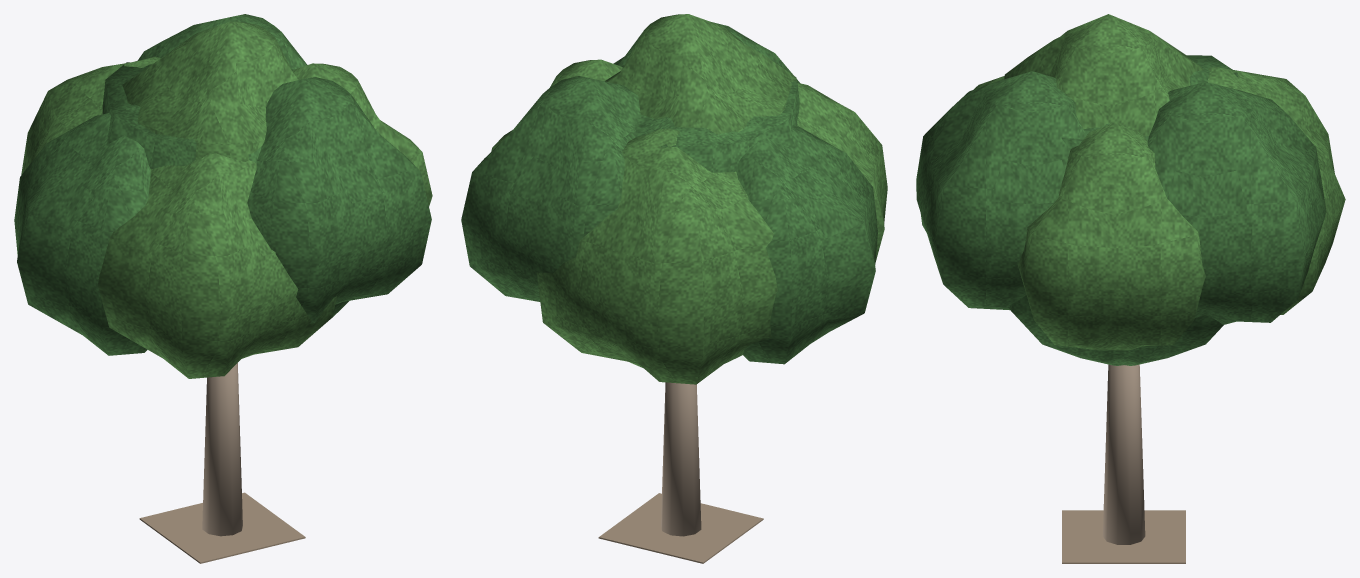
Rendered from barrio.arbol.fbx.
3 views of the same model, side by side, from view 1: azimuth 30°, elevation 25°; view 2: azimuth 150°, elevation 25°; view 3: azimuth 270°, elevation 25° (orthographic). The views are drawn at different scales.
Parts seen in each view (by area): view 1: Copa.001, Copa.002, Copa.006, Copa.007, Tronco, Taza del arbol, Copa.005, Copa, Copa.003, Copa.004; view 2: Copa.005, Copa.004, Copa.006, Copa.007, Tronco, Taza del arbol, Copa, Copa.001, Copa.003, Copa.002; view 3: Copa.003, Copa.004, Copa.002, Copa.007, Tronco, Copa.005, Taza del arbol, Copa.
Part boxes in pixels (x1,y1,x2,y2): Copa.001: [98, 153, 336, 378]; Copa.002: [247, 77, 431, 323]; Copa.006: [14, 107, 150, 355]; Copa.007: [122, 21, 299, 162]; Tronco: [202, 363, 242, 536]; Taza del arbol: [139, 492, 305, 563]; Copa.005: [21, 56, 160, 174]; Copa: [102, 62, 349, 316]; Copa.003: [292, 63, 432, 206]; Copa.004: [137, 14, 307, 69]; Copa.005: [537, 128, 777, 384]; Copa.004: [461, 76, 640, 301]; Copa.006: [736, 117, 877, 364]; Copa.007: [605, 14, 796, 134]; Tronco: [661, 382, 701, 536]; Taza del arbol: [598, 493, 763, 563]; Copa: [613, 56, 799, 172]; Copa.001: [797, 83, 887, 262]; Copa.003: [491, 59, 622, 151]; Copa.002: [618, 22, 799, 82]; Copa.003: [1018, 122, 1205, 350]; Copa.004: [1147, 82, 1326, 324]; Copa.002: [916, 71, 1085, 310]; Copa.007: [1004, 14, 1204, 136]; Tronco: [1102, 364, 1145, 544]; Copa.005: [1207, 67, 1345, 314]; Taza del arbol: [1062, 510, 1185, 563]; Copa: [1008, 55, 1237, 365].
Bounding box in the file's own units: 2.84 × 3.81 × 2.77.
4 materials, 2 textured.
